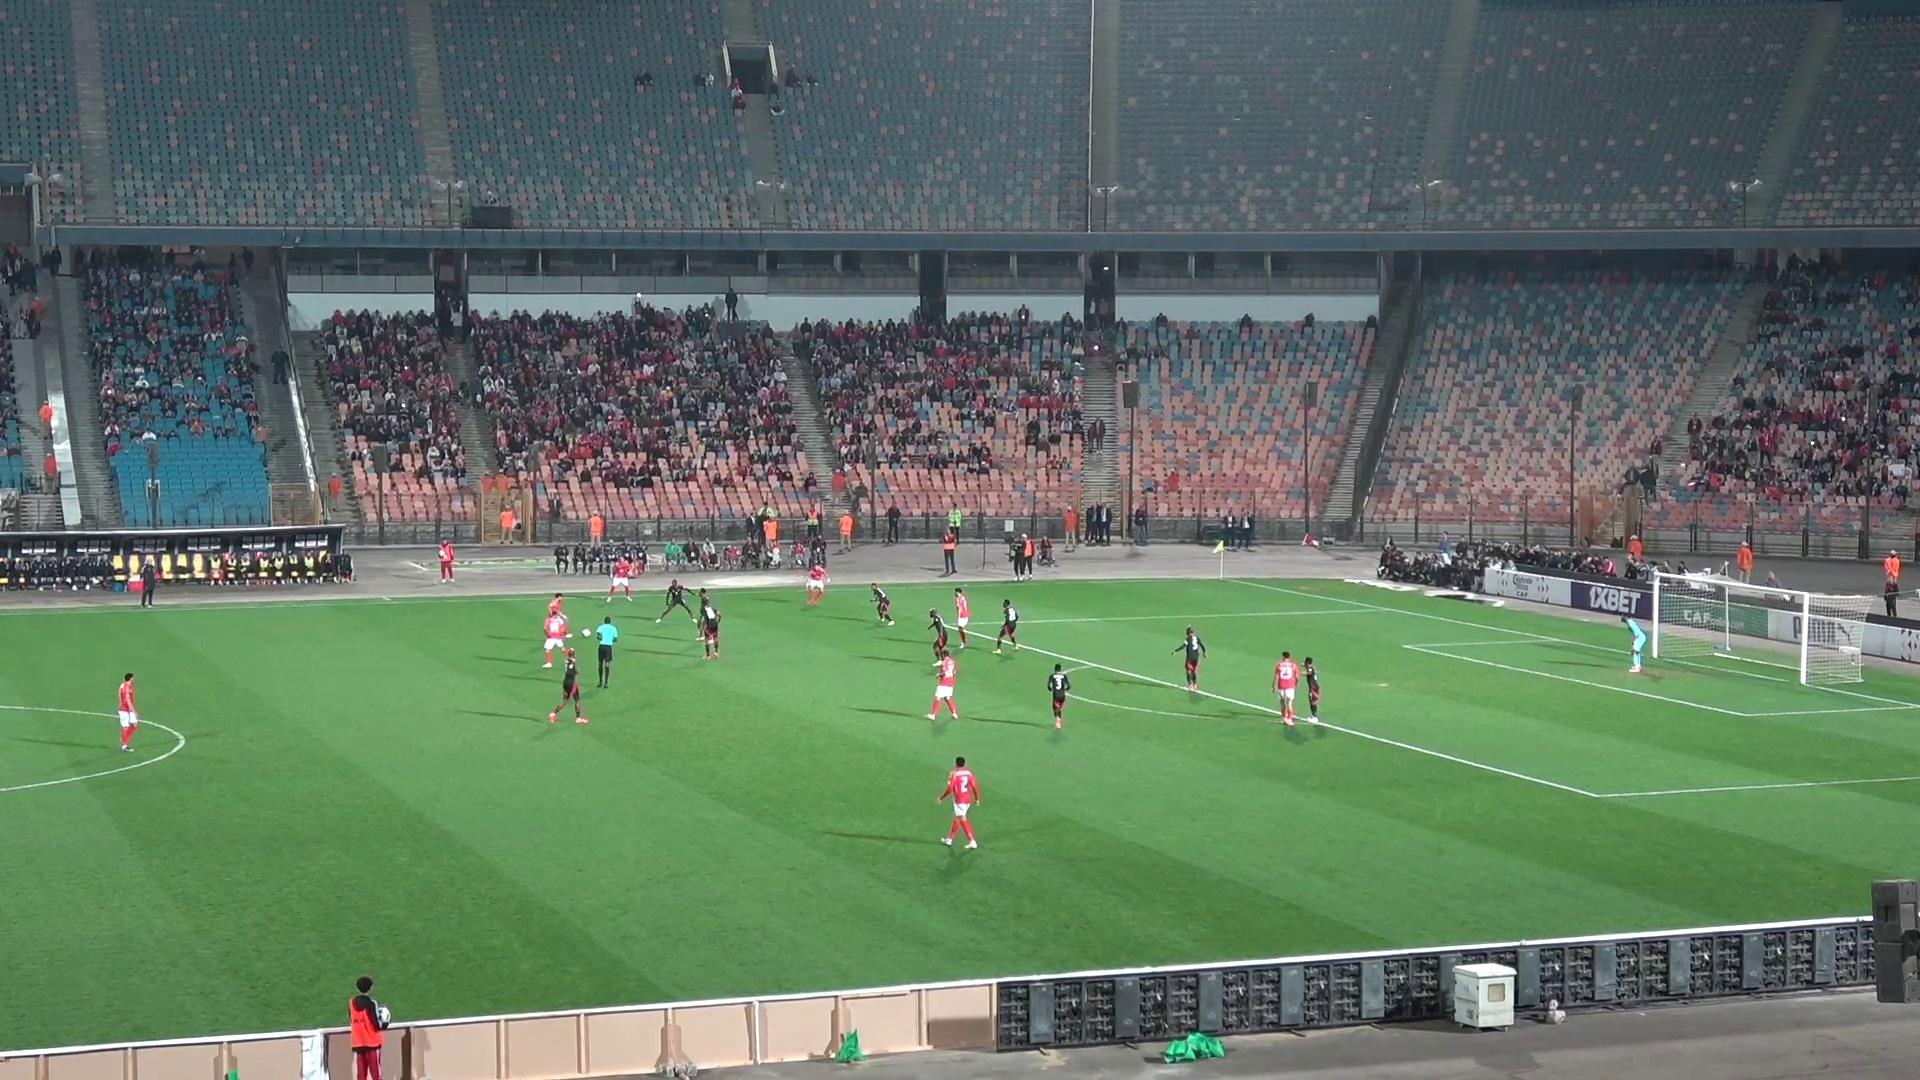Ball: (575, 626, 593, 638)
GK2: (1623, 615, 1654, 673)
Refree: (589, 616, 618, 688)
Team1: (938, 757, 978, 849), (924, 649, 959, 720), (543, 593, 572, 665), (116, 674, 141, 752), (1273, 650, 1298, 727), (607, 556, 638, 601), (951, 588, 971, 647), (806, 563, 829, 607)
Team2: (547, 651, 588, 724), (1174, 626, 1207, 691), (655, 580, 700, 622), (1044, 663, 1071, 729), (1300, 655, 1323, 727), (696, 599, 721, 658), (927, 609, 952, 665), (993, 599, 1018, 651), (870, 584, 895, 625), (695, 588, 712, 611)
